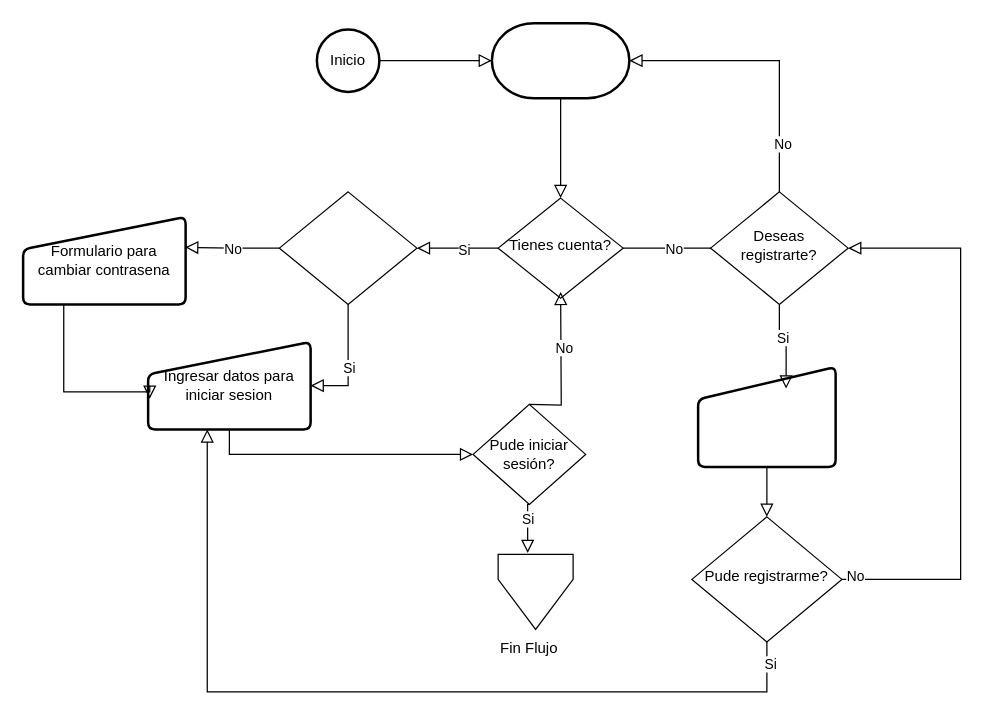
Some shapes in this 995 by 726 pixel diagram are drawn without their labels. Here are the shapes that lost their labels. From the top down, the box of each, then its label:
(490, 21, 630, 99): Entrar pagina web
(278, 191, 417, 304): Recuerdas tus datos
(696, 365, 836, 468): Ingresar datos de registro
